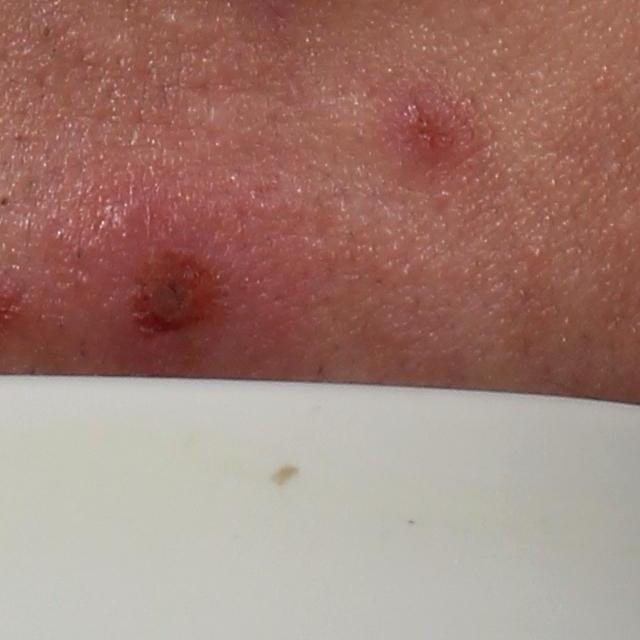nodule: (46, 174, 321, 373)
papule: (396, 97, 443, 152)
